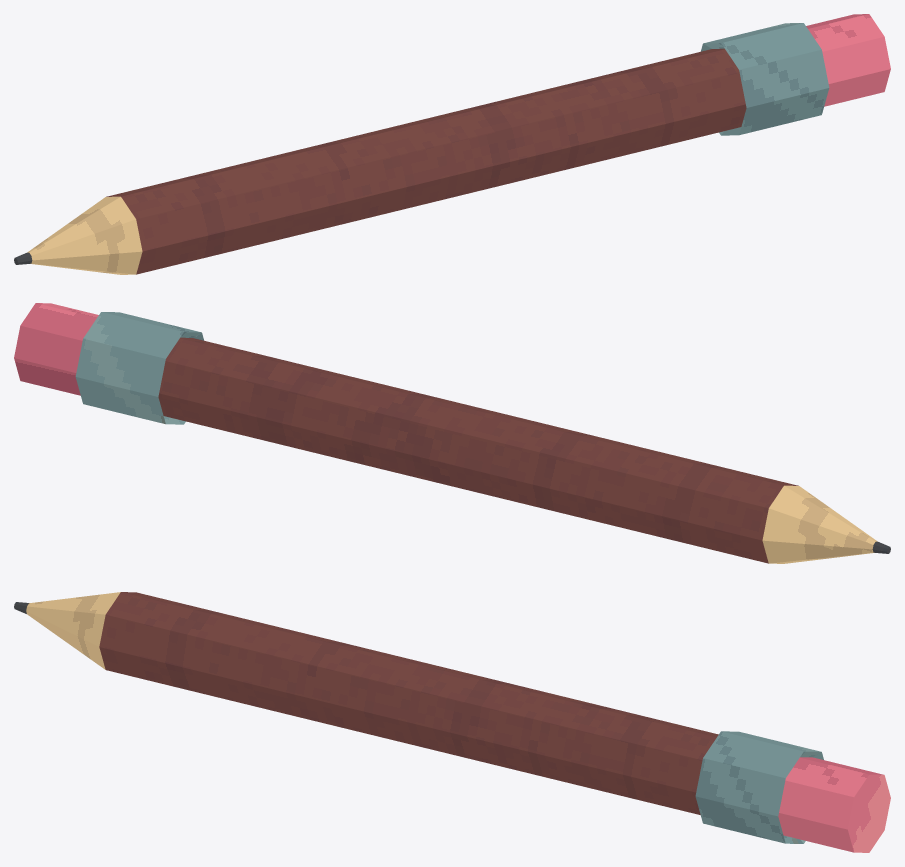
File: pencilJumbo.glb
The picture shows the model from 3 angles, top to bottom: view 1: azimuth 30°, elevation 25°; view 2: azimuth 150°, elevation 25°; view 3: azimuth 330°, elevation 25°; orthographic projection.
Visible parts, largest first — view 1: pencilJumbo; view 2: pencilJumbo; view 3: pencilJumbo.
Part boxes in pixels (x1=…): pencilJumbo: x1=14, y1=14, x2=890, y2=274; pencilJumbo: x1=14, y1=303, x2=890, y2=563; pencilJumbo: x1=14, y1=592, x2=890, y2=852.
Bounding box in the file's own units: 0.3869 × 0.0401 × 0.0401.
Materials: 5 (5 with a texture image).
